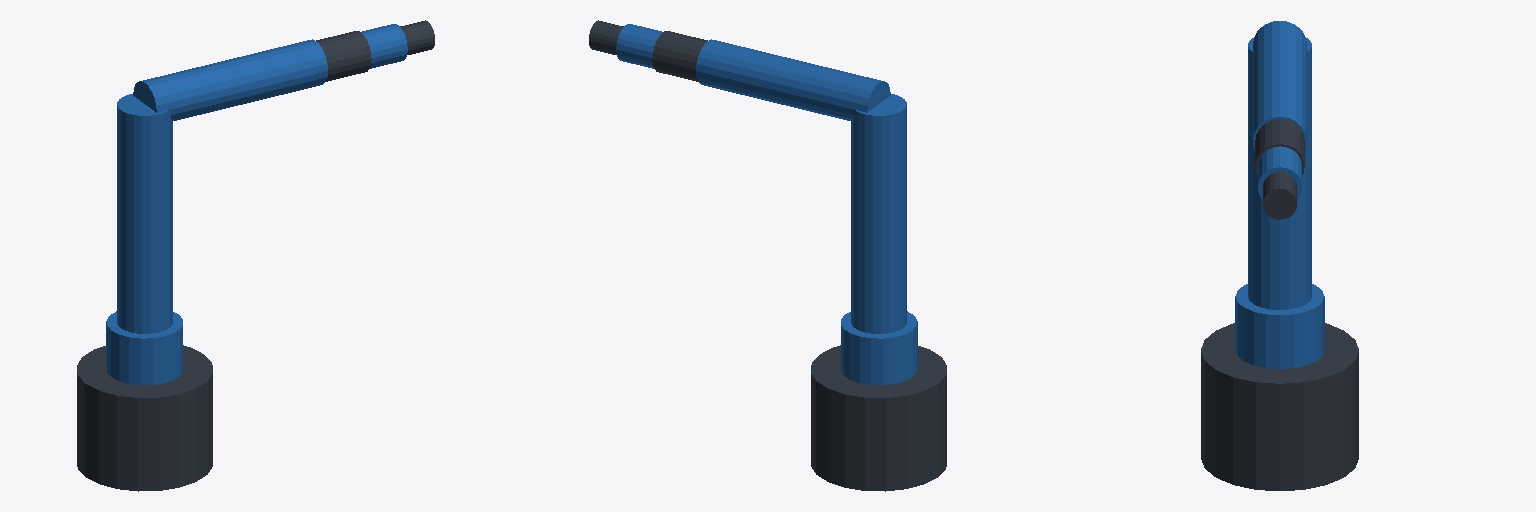
robot.urdf — six_axis_arm:
<?xml version="1.0"?>
<!-- DART-authored sample, distributed under the repository BSD-2-Clause license. -->
<robot name="six_axis_arm">
  <material name="blue"><color rgba="0.2 0.45 0.7 1" /></material>
  <material name="graphite"><color rgba="0.25 0.28 0.32 1" /></material>
  <link name="world" />
  <link name="base">
    <inertial>
      <origin xyz="0 0 0.06" />
      <mass value="2.0" />
      <inertia ixx="0.0056" iyy="0.0056" izz="0.0064"
               ixy="0" ixz="0" iyz="0" />
    </inertial>
    <visual>
      <origin xyz="0 0 0.06" />
      <geometry><mesh filename="meshes/base.obj" /></geometry>
      <material name="graphite" />
    </visual>
    <collision>
      <origin xyz="0 0 0.06" />
      <geometry><box size="0.16 0.16 0.12" /></geometry>
    </collision>
  </link>
  <link name="shoulder">
    <inertial>
      <origin xyz="0 0 0.03" />
      <mass value="1.0" />
      <inertia ixx="0.00080625" iyy="0.00080625" izz="0.0010125"
               ixy="0" ixz="0" iyz="0" />
    </inertial>
    <visual>
      <origin xyz="0 0 0.03" />
      <geometry><mesh filename="meshes/shoulder.obj" /></geometry>
      <material name="blue" />
    </visual>
    <collision>
      <origin xyz="0 0 0.03" />
      <geometry><box size="0.09 0.09 0.06" /></geometry>
    </collision>
  </link>
  <link name="upper_arm">
    <inertial>
      <origin xyz="0 0 0.14" />
      <mass value="0.8" />
      <inertia ixx="0.0054379166666667" iyy="0.0054379166666667" izz="0.0004225"
               ixy="0" ixz="0" iyz="0" />
    </inertial>
    <visual>
      <origin xyz="0 0 0.14" />
      <geometry><mesh filename="meshes/upper_arm.obj" /></geometry>
      <material name="blue" />
    </visual>
    <collision>
      <origin xyz="0 0 0.14" />
      <geometry><box size="0.065 0.065 0.28" /></geometry>
    </collision>
  </link>
  <link name="elbow">
    <inertial>
      <origin xyz="0.115 0 0" />
      <mass value="0.6" />
      <inertia ixx="0.000226875" iyy="0.0027584375" izz="0.0027584375"
               ixy="0" ixz="0" iyz="0" />
    </inertial>
    <visual>
      <origin xyz="0.115 0 0" />
      <geometry><mesh filename="meshes/elbow.obj" /></geometry>
      <material name="blue" />
    </visual>
    <collision>
      <origin xyz="0.115 0 0" />
      <geometry><box size="0.23 0.055 0.055" /></geometry>
    </collision>
  </link>
  <link name="forearm">
    <inertial>
      <origin xyz="0.03 0 0" />
      <mass value="0.25" />
      <inertia ixx="7.8125e-05" iyy="0.0001140625" izz="0.0001140625"
               ixy="0" ixz="0" iyz="0" />
    </inertial>
    <visual>
      <origin xyz="0.03 0 0" />
      <geometry><mesh filename="meshes/forearm.obj" /></geometry>
      <material name="graphite" />
    </visual>
    <collision>
      <origin xyz="0.03 0 0" />
      <geometry><box size="0.06 0.05 0.05" /></geometry>
    </collision>
  </link>
  <link name="wrist">
    <inertial>
      <origin xyz="0.025 0 0" />
      <mass value="0.18" />
      <inertia ixx="4.55625e-05" iyy="6.028125e-05" izz="6.028125e-05"
               ixy="0" ixz="0" iyz="0" />
    </inertial>
    <visual>
      <origin xyz="0.025 0 0" />
      <geometry><mesh filename="meshes/wrist.obj" /></geometry>
      <material name="blue" />
    </visual>
    <collision>
      <origin xyz="0.025 0 0" />
      <geometry><box size="0.05 0.045 0.045" /></geometry>
    </collision>
  </link>
  <link name="tool">
    <inertial>
      <origin xyz="0.02 0 0" />
      <mass value="0.12" />
      <inertia ixx="1.8375e-05" iyy="2.51875e-05" izz="2.51875e-05"
               ixy="0" ixz="0" iyz="0" />
    </inertial>
    <visual>
      <origin xyz="0.02 0 0" />
      <geometry><mesh filename="meshes/tool.obj" /></geometry>
      <material name="graphite" />
    </visual>
    <collision>
      <origin xyz="0.02 0 0" />
      <geometry><box size="0.04 0.035 0.035" /></geometry>
    </collision>
  </link>
  <joint name="world_joint" type="fixed">
    <parent link="world" />
    <child link="base" />
  </joint>
  <joint name="base_yaw" type="revolute">
    <parent link="base" />
    <child link="shoulder" />
    <origin xyz="0 0 0.12" />
    <axis xyz="0 0 1" />
    <limit lower="-3.14" upper="3.14" effort="40" velocity="2" />
  </joint>
  <joint name="shoulder_pitch" type="revolute">
    <parent link="shoulder" />
    <child link="upper_arm" />
    <origin xyz="0 0 0.06" />
    <axis xyz="0 1 0" />
    <limit lower="-2.6" upper="2.6" effort="40" velocity="2" />
  </joint>
  <joint name="elbow_pitch" type="revolute">
    <parent link="upper_arm" />
    <child link="elbow" />
    <origin xyz="0 0 0.28" />
    <axis xyz="0 1 0" />
    <limit lower="-2.6" upper="2.6" effort="25" velocity="2" />
  </joint>
  <joint name="wrist_roll" type="revolute">
    <parent link="elbow" />
    <child link="forearm" />
    <origin xyz="0.23 0 0" />
    <axis xyz="1 0 0" />
    <limit lower="-3.14" upper="3.14" effort="8" velocity="2" />
  </joint>
  <joint name="wrist_pitch" type="revolute">
    <parent link="forearm" />
    <child link="wrist" />
    <origin xyz="0.06 0 0" />
    <axis xyz="0 1 0" />
    <limit lower="-2.6" upper="2.6" effort="8" velocity="2" />
  </joint>
  <joint name="tool_roll" type="revolute">
    <parent link="wrist" />
    <child link="tool" />
    <origin xyz="0.05 0 0" />
    <axis xyz="1 0 0" />
    <limit lower="-3.14" upper="3.14" effort="5" velocity="2" />
  </joint>
</robot>

--- Render facts (derived) ---
The picture shows the robot from 3 angles, left to right: view 1: azimuth 30°, elevation 25°; view 2: azimuth 150°, elevation 25°; view 3: azimuth 270°, elevation 25°; orthographic projection.
Model six_axis_arm with 8 links and 7 joints (6 revolute, 1 fixed), rooted at world, posed all joints at 0.
Links seen in each view (by area): view 1: base, upper_arm, elbow, shoulder, forearm, wrist, tool; view 2: base, upper_arm, elbow, shoulder, forearm, wrist, tool; view 3: base, upper_arm, shoulder, elbow, forearm, tool, wrist.
Boxes of the visible links, box(x1,y1,x2,y2) form: base: box(77, 345, 212, 491); upper_arm: box(117, 94, 172, 333); elbow: box(133, 39, 327, 120); shoulder: box(106, 311, 182, 384); forearm: box(316, 31, 371, 81); wrist: box(361, 24, 407, 68); tool: box(400, 20, 434, 54); base: box(811, 345, 946, 491); upper_arm: box(851, 94, 906, 333); elbow: box(696, 39, 890, 120); shoulder: box(841, 311, 917, 384); forearm: box(652, 31, 707, 81); wrist: box(616, 24, 662, 68); tool: box(589, 20, 623, 54); base: box(1201, 323, 1358, 490); upper_arm: box(1248, 38, 1311, 309); shoulder: box(1235, 284, 1324, 368); elbow: box(1253, 21, 1306, 149); forearm: box(1255, 119, 1304, 174); tool: box(1263, 172, 1296, 219); wrist: box(1258, 146, 1301, 199).
Bounding box of the posed robot: 0.46 × 0.16 × 0.4875 m (x, y, z).
Meshes: 7 distinct files referenced, 7 mesh visuals loaded (7 OBJ).
